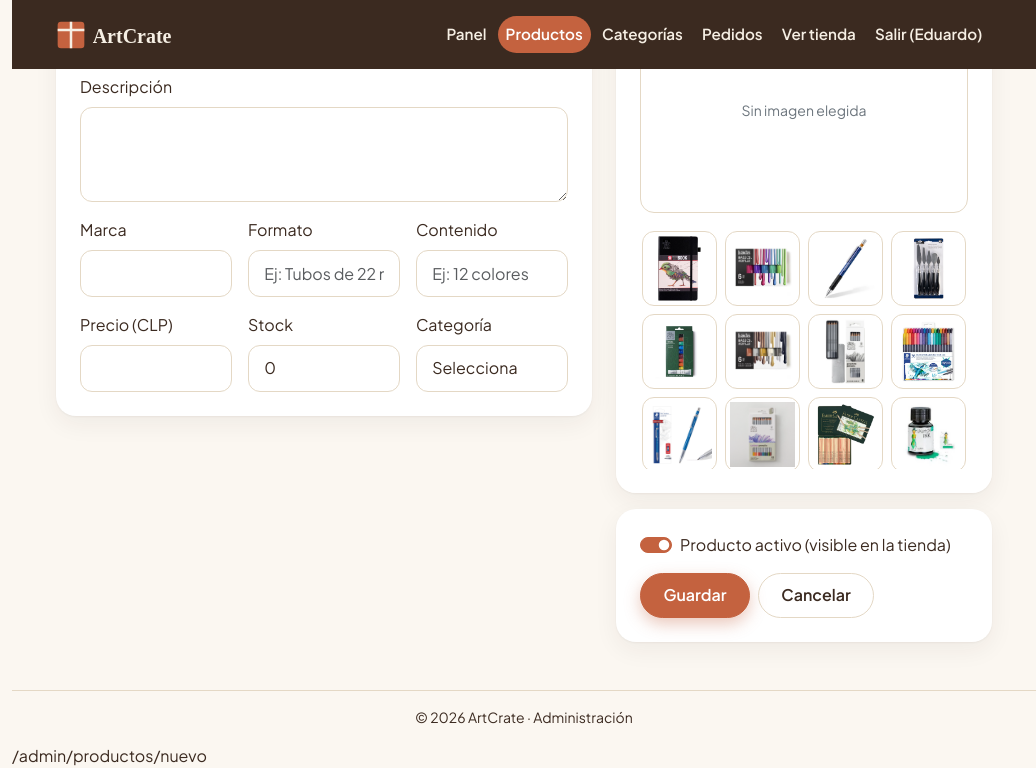
Test: Formulario de producto › producto nuevo › enviar vacío marca los errores, lleva el foco al SKU y no guarda nada
(page scrolled)
Click the button "Guardar" at (695, 595), box [640,573,750,618]
(page scrolled)
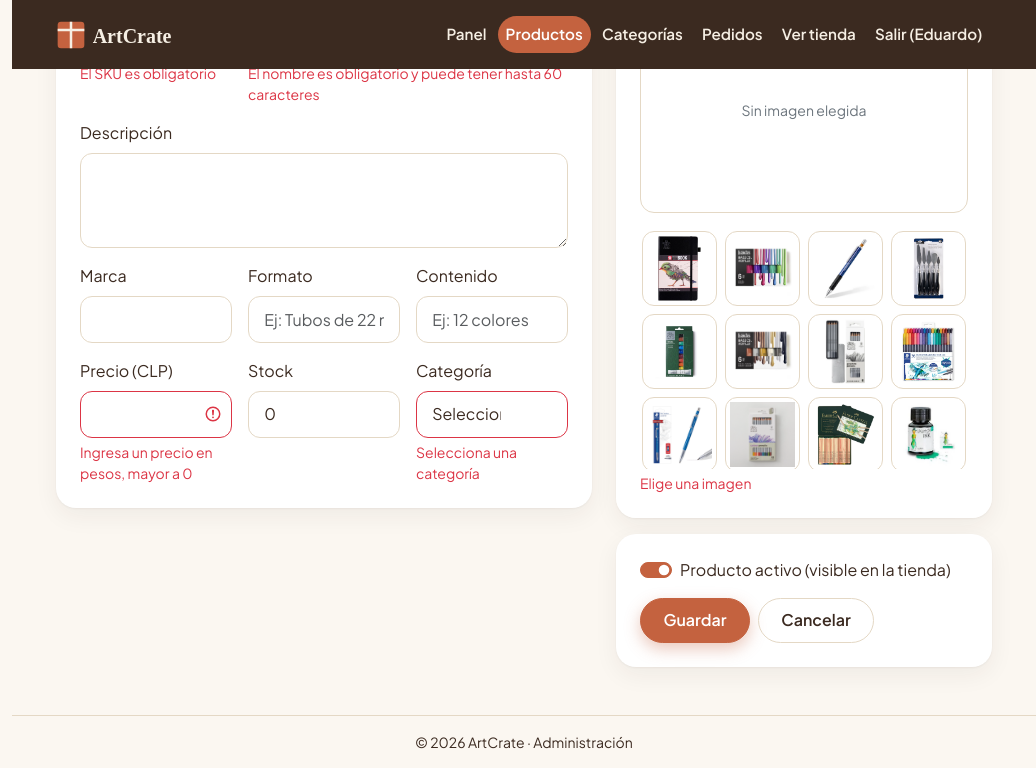
Expected: the text "El SKU es obligatorio" is shown, [80,63,232,84]
Expected: the text "El nombre es obligatorio y puede tener hasta 60 caracteres" is shown, [248,63,568,105]
Expected: the text "Ingresa un precio en pesos, mayor a 0" is shown, [80,442,232,484]
